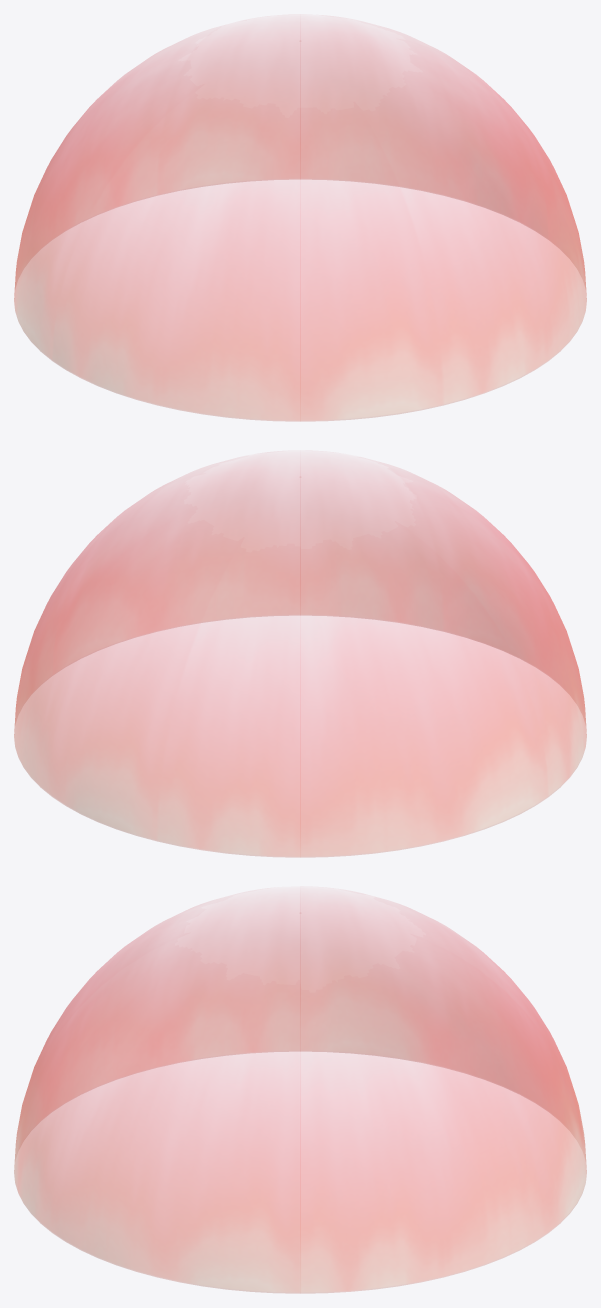
File: shock_dome_crimson.glb
3 renders of one model, top to bottom at view 1: azimuth 30°, elevation 25°; view 2: azimuth 150°, elevation 25°; view 3: azimuth 270°, elevation 25°, orthographic.
Visible parts, largest first — view 1: dome; view 2: dome; view 3: dome.
Part boxes in pixels (left/top/right/bottom): dome: left=14, top=26, right=586, bottom=421; dome: left=14, top=466, right=586, bottom=857; dome: left=14, top=899, right=586, bottom=1293.
Bounding box in the file's own units: 2 × 1 × 2.
1 material, 1 textured.
